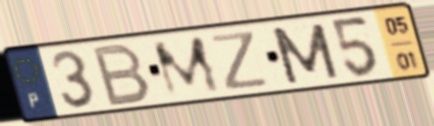3: (50, 47, 101, 111)
5: (328, 12, 381, 81)
B: (90, 40, 154, 109)
M: (148, 33, 225, 101), (267, 20, 343, 87)
Z: (208, 28, 272, 93)
